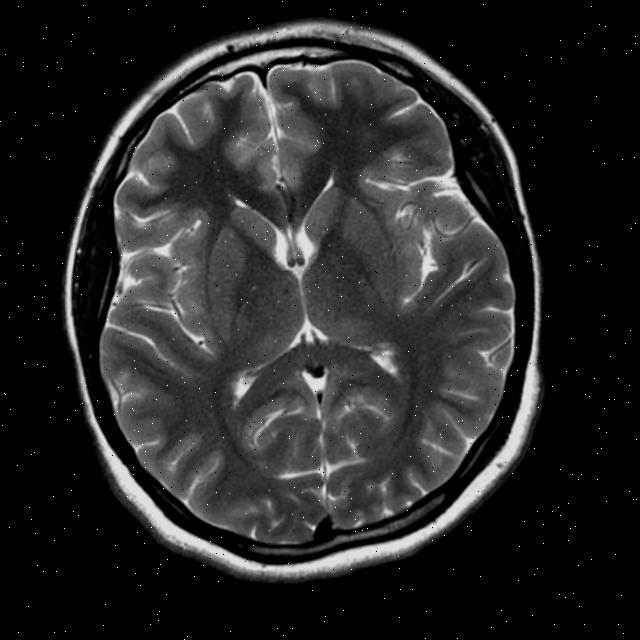NoTumor: (42, 11, 566, 591)
